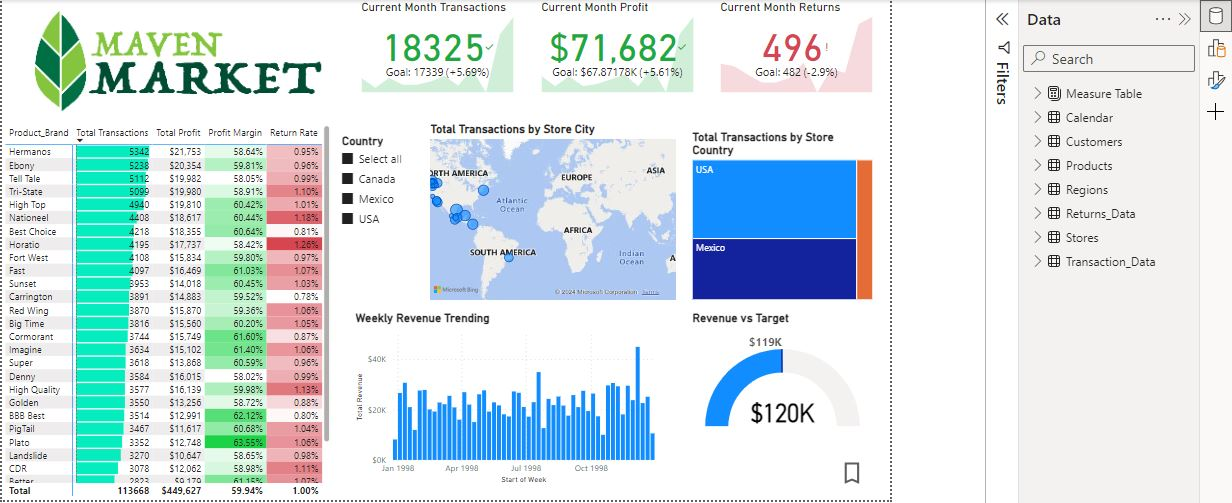

Layout of this report page (visuals, bound fields, positions):
{"tool":"powerbi","page":{"name":"Topline Performance","canvas":[1280,720],"ordinal":0},"visuals":[{"type":"image","box":[0,0,503.3,175],"z":0},{"type":"pivotTable","fields":{"Rows":["Products.product_brand"],"Values":["Measure Table.Total Transactions","Measure Table.Total Profit","Measure Table.Profit Margin","Measure Table.Return Rate"]},"box":[0,175.7,476.6,544.3],"z":1000},{"type":"kpi","title":"Current Month Transactions","fields":{"Indicator":["Measure Table.Total Transactions"],"TrendLine":["Calendar.Start of Month"],"Goal":["Measure Table.Last Month Transactions"]},"box":[512.6,0,229,138.2],"z":1001},{"type":"kpi","title":"Current Month Profit","fields":{"TrendLine":["Calendar.Start of Month"],"Indicator":["Measure Table.Total Profit"],"Goal":["Measure Table.Last Month Profit"]},"box":[771.1,0,229,138.2],"z":1002},{"type":"kpi","title":"Current Month Returns","fields":{"TrendLine":["Calendar.Start of Month"],"Indicator":["Measure Table.Total Returns"],"Goal":["Measure Table.Last Month Returns"]},"box":[1029.6,0,229,138.2],"z":1003},{"type":"map","title":"Total Transactions by Store City","fields":{"Category":["Stores.store_city"],"Size":["Measure Table.Total Transactions"]},"box":[612,175.7,364.3,260.6],"z":1004},{"type":"slicer","fields":{"Values":["Stores.store_country"]},"box":[476.6,187.2,118.1,146.9],"z":1005},{"type":"treemap","title":"Total Transactions by Store Country","fields":{"Values":["Measure Table.Total Transactions"],"Group":["Stores.store_country","Stores.store_state","Stores.store_city"]},"box":[989.3,187.2,269.3,249.1],"z":1006},{"type":"columnChart","title":"Weekly Revenue Trending","fields":{"Y":["Measure Table.Total Revenue"],"Category":["Calendar.Start of Week"]},"box":[504,447.8,463.7,253.4],"z":1007},{"type":"gauge","title":"Revenue vs Target","fields":{"Y":["Measure Table.Total Revenue"],"TargetValue":["Measure Table.Revenue Target"]},"box":[989.3,447.8,269.3,171.4],"z":1008},{"type":"actionButton","box":[1203.8,661,41.8,40.3],"z":1009}]}

Visuals, with their boxes on the page's 1280x720 design canvas (x1, y1, x2, y2). These are canvas units, not pixel positions in the 1232x503 screenshot, which may show the page scaled, cropped or inside an application window:
image: rect(0, 0, 503, 175)
pivotTable - Products.product_brand x Measure Table.Total Transactions: rect(0, 176, 477, 720)
"Current Month Transactions" kpi: rect(513, 0, 742, 138)
"Current Month Profit" kpi: rect(771, 0, 1000, 138)
"Current Month Returns" kpi: rect(1030, 0, 1259, 138)
"Total Transactions by Store City" map: rect(612, 176, 976, 436)
slicer - Stores.store_country: rect(477, 187, 595, 334)
"Total Transactions by Store Country" treemap: rect(989, 187, 1259, 436)
"Weekly Revenue Trending" columnChart: rect(504, 448, 968, 701)
"Revenue vs Target" gauge: rect(989, 448, 1259, 619)
actionButton: rect(1204, 661, 1246, 701)
